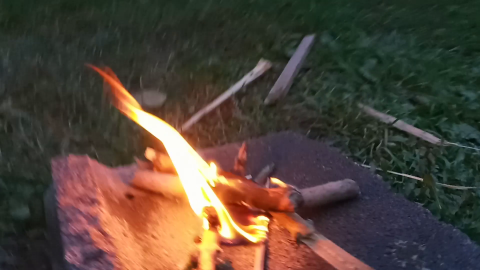fire: (85, 55, 275, 243)
